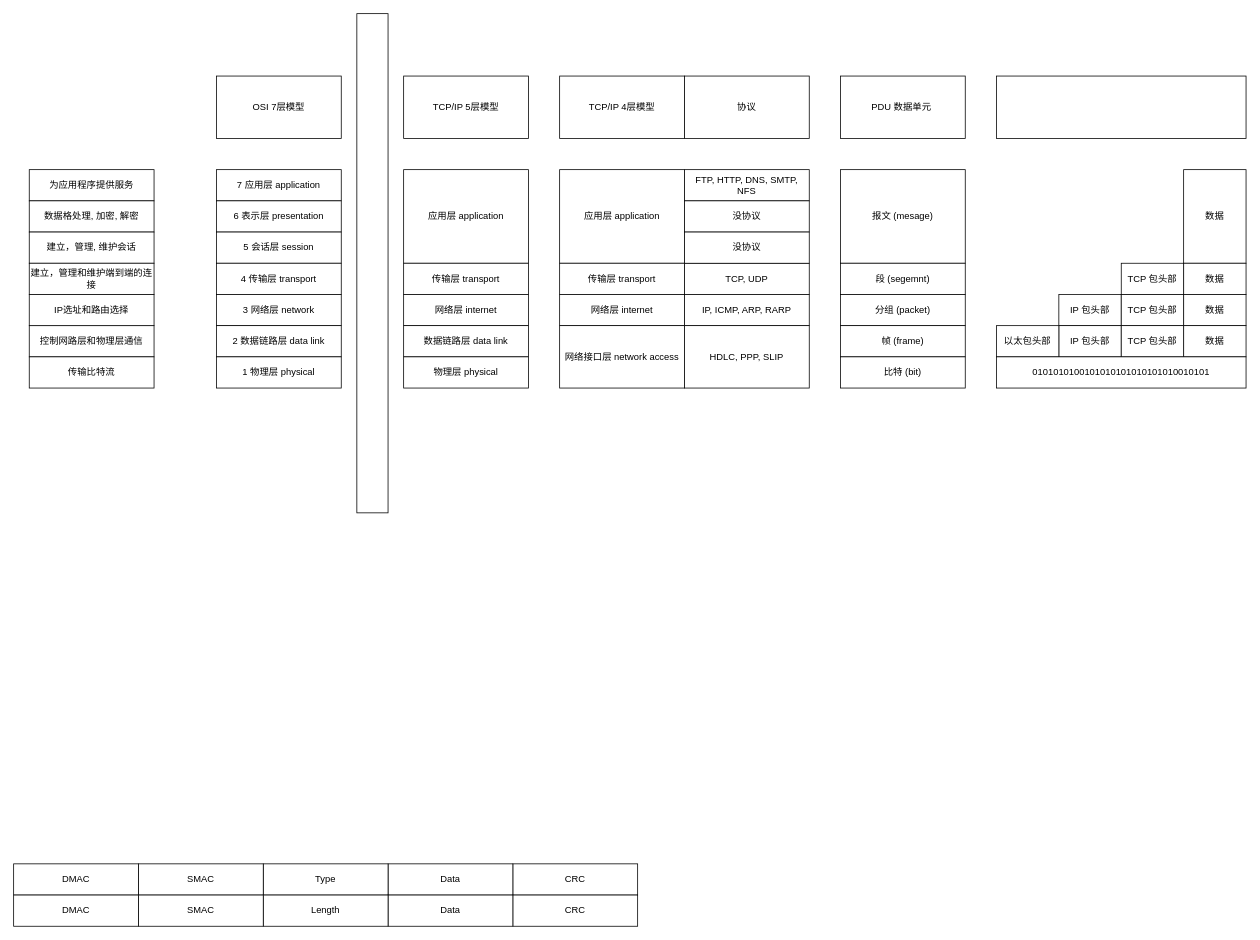
The diagram is 1260 pixels wide and 940 high, and some of its shapes have lost their labels. The centre of each missing label's shape, as x and y in pixels:
"TCP/IP 数据实例" belongs at (x=1121, y=106).
"分 割 线" belongs at (x=372, y=263).
